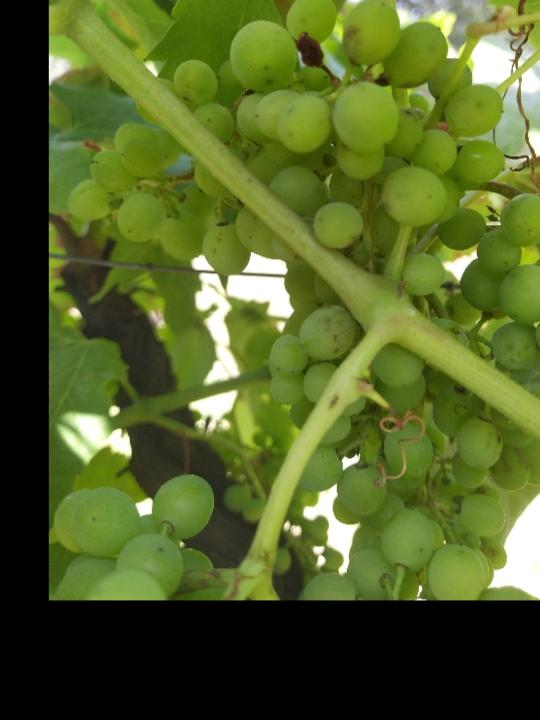grape: (60, 0, 540, 580)
